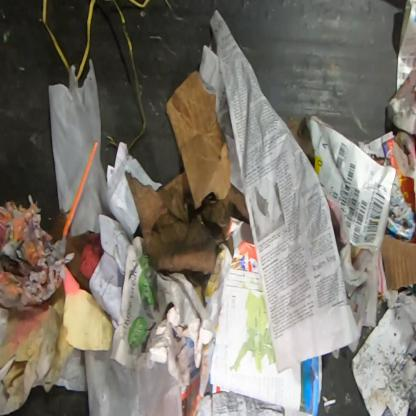cardboard: (286, 115, 397, 253), (125, 170, 249, 274), (165, 69, 231, 211), (386, 138, 416, 212), (379, 233, 416, 291)
